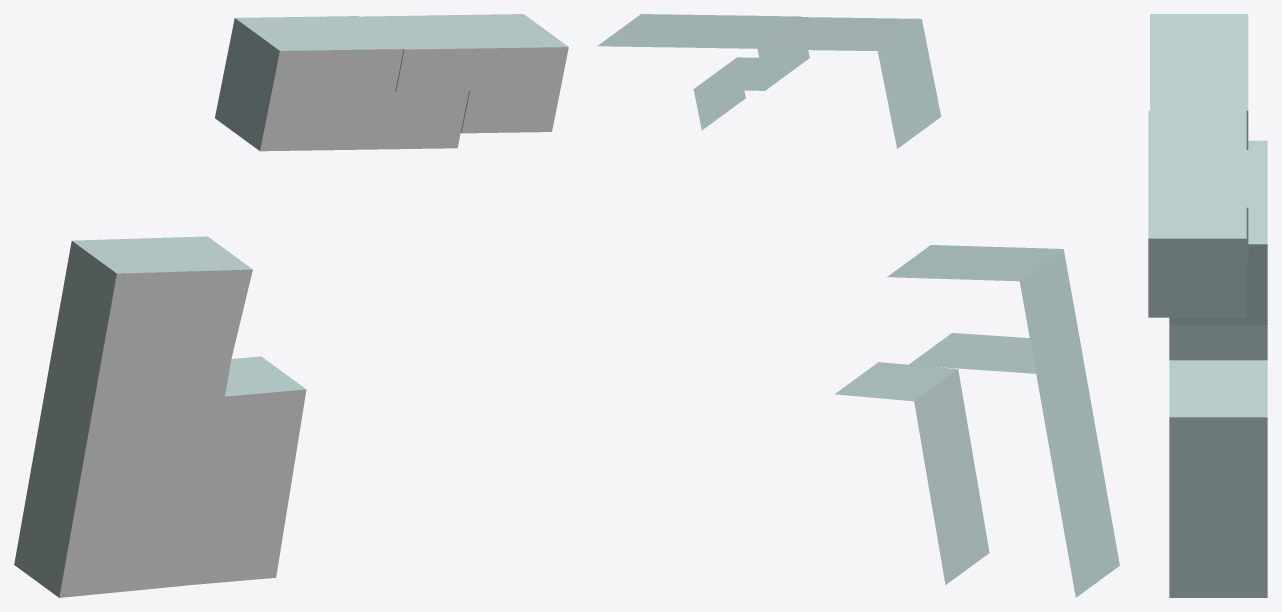
3 views of the same model, side by side, from view 1: azimuth 30°, elevation 25°; view 2: azimuth 150°, elevation 25°; view 3: azimuth 270°, elevation 25° (orthographic). The views are drawn at different scales.
Parts seen in each view (by area): view 1: 0_2_3_2_3_0_2_1_3; view 2: 0_2_3_2_3_0_2_1_3; view 3: 0_2_3_2_3_0_2_1_3.
Boxes of the visible parts, x1,y1,x2,y2 form: 0_2_3_2_3_0_2_1_3: (14, 14, 568, 597); 0_2_3_2_3_0_2_1_3: (597, 14, 1119, 597); 0_2_3_2_3_0_2_1_3: (1148, 14, 1267, 597).
Size of the model in its own units: 19.17 by 19.58 by 3.64.
